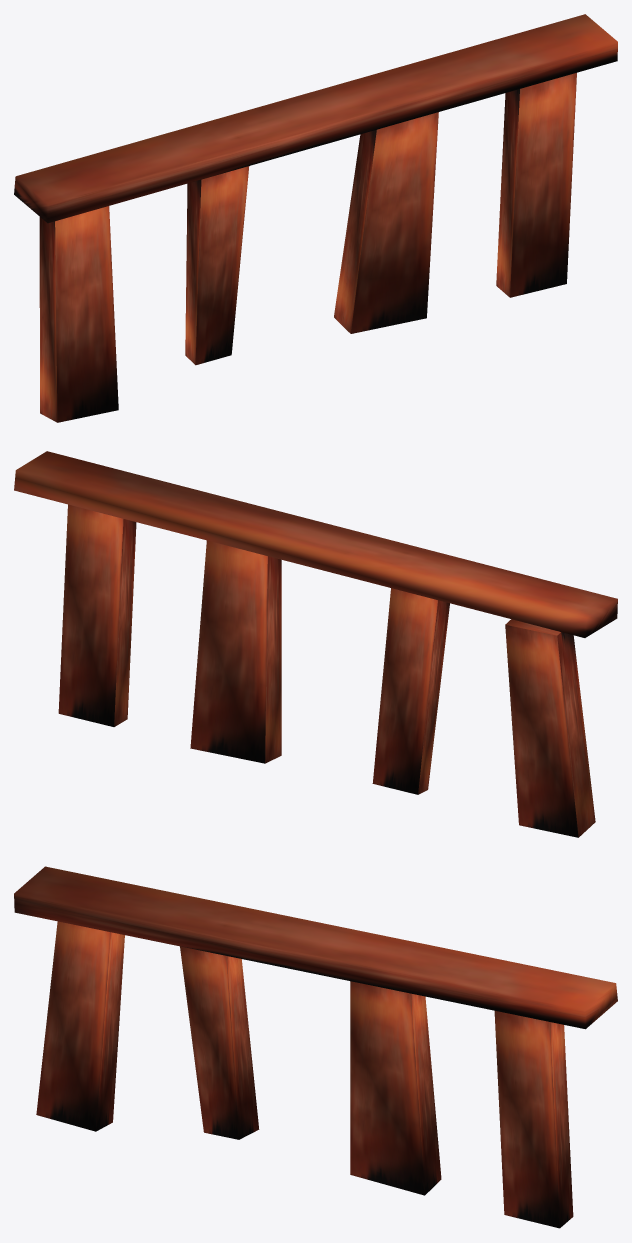
The model's file is wood_4x1.DAE.
3 renders of one model, top to bottom at view 1: azimuth 30°, elevation 25°; view 2: azimuth 150°, elevation 25°; view 3: azimuth 330°, elevation 25°, orthographic. The views are drawn at different scales.
Visible parts, largest first — view 1: Box01; view 2: Box01; view 3: Box01.
Boxes of the visible parts, bbox=[...] form: Box01: bbox=[14, 14, 617, 422]; Box01: bbox=[14, 451, 617, 837]; Box01: bbox=[14, 866, 617, 1228].
Size of the model in its own units: 4.56 by 1.91 by 0.5656.
